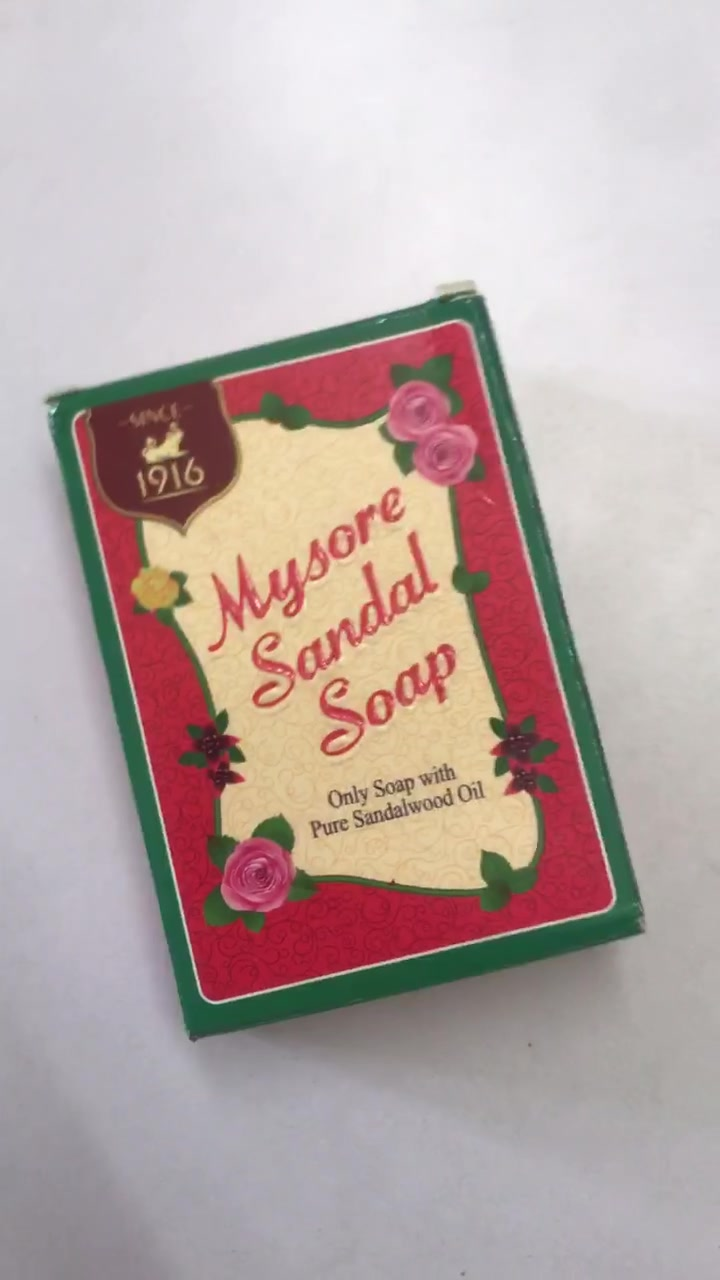mysore sandal soap: (51, 306, 641, 1042)
